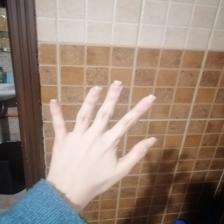five: (44, 78, 162, 182)
